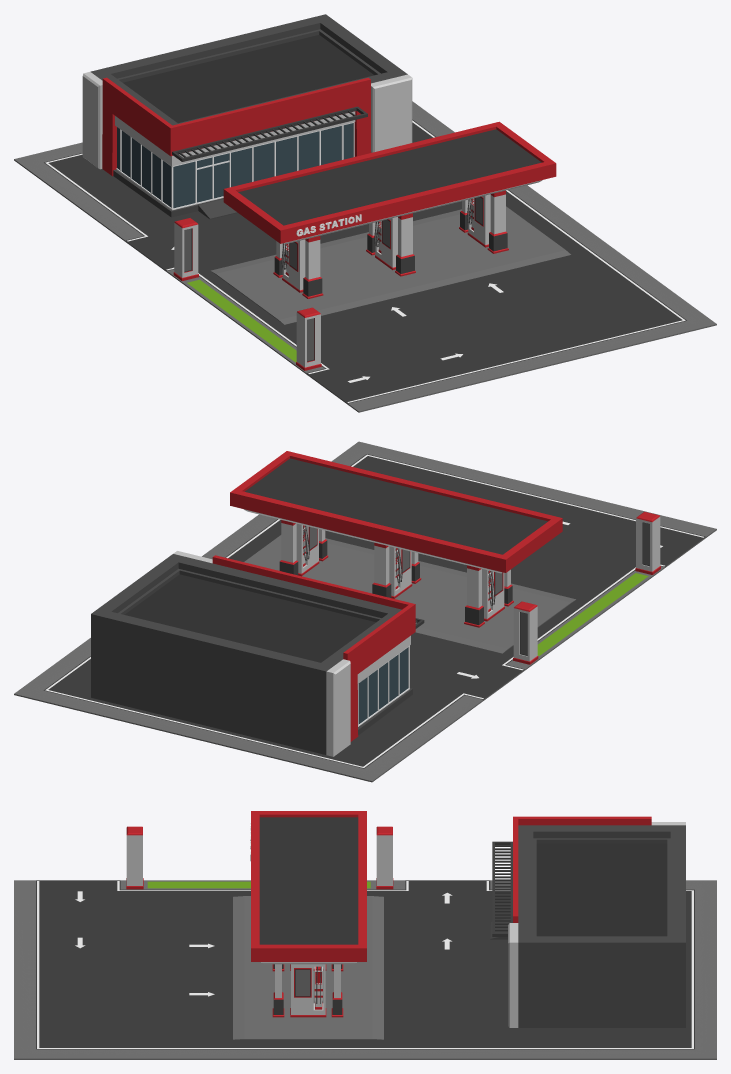
The model's file is bldg-gas.glb.
3 views of the same model, one above another, from view 1: azimuth 30°, elevation 25°; view 2: azimuth 150°, elevation 25°; view 3: azimuth 270°, elevation 25° (orthographic).
Parts seen in each view (by area): view 1: gasstation_a; view 2: gasstation_a; view 3: gasstation_a.
Boxes of the visible parts, x1,y1,x2,y2 form: gasstation_a: [14, 14, 716, 412]; gasstation_a: [14, 441, 716, 782]; gasstation_a: [14, 811, 716, 1059].
Size of the model in its own units: 30 by 7.31 by 50.
1 material, 1 textured.
